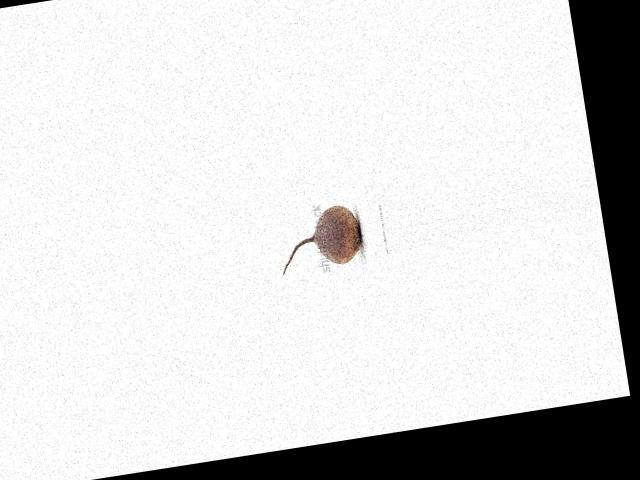beet: (273, 201, 365, 274)
